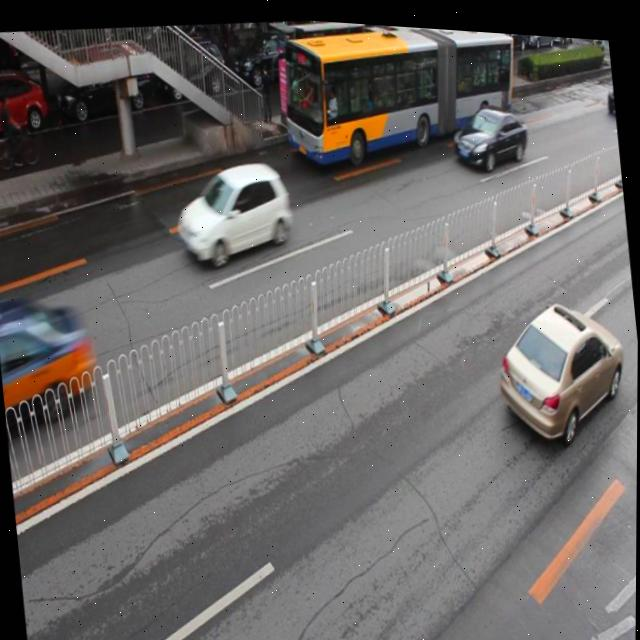car: (491, 282, 629, 438), (170, 151, 295, 269), (0, 290, 98, 439), (56, 52, 157, 130), (450, 91, 530, 168), (155, 31, 231, 103), (233, 25, 308, 88), (0, 72, 54, 149)
van: (276, 15, 522, 170)
